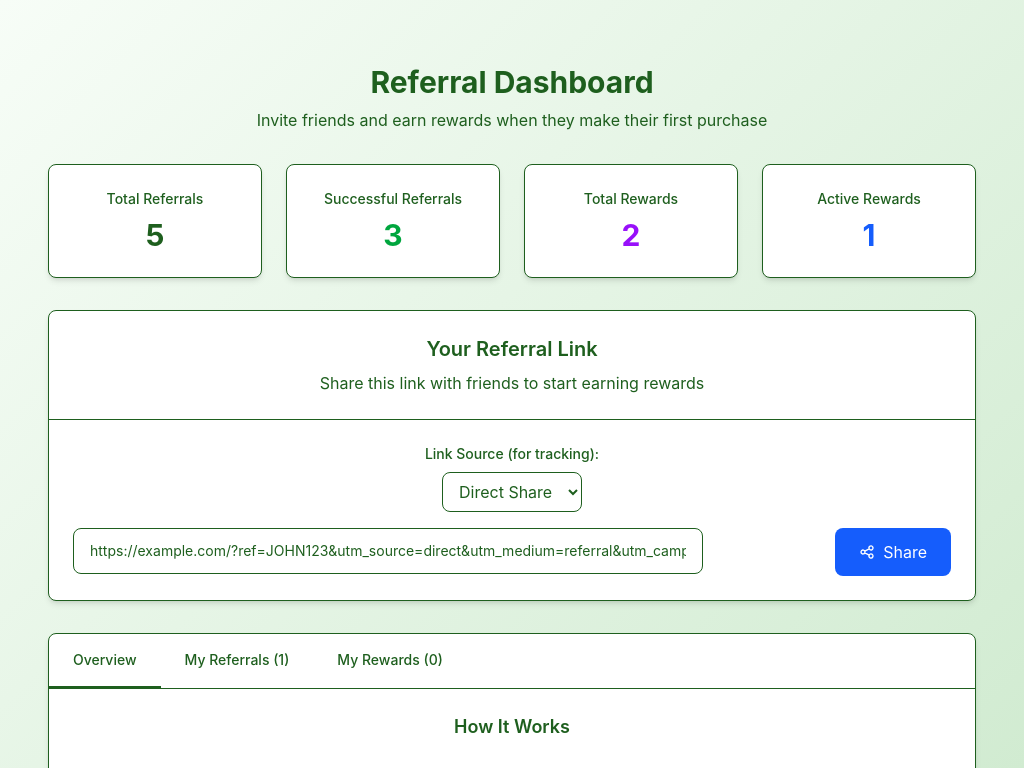
Scenario: CustomerReferralDashboardPage › Rewards Tab › should show empty state when no rewards
Click the button "My Rewards (0)" at coordinates (390, 661), box [313,634,467,688]
(page scrolled)
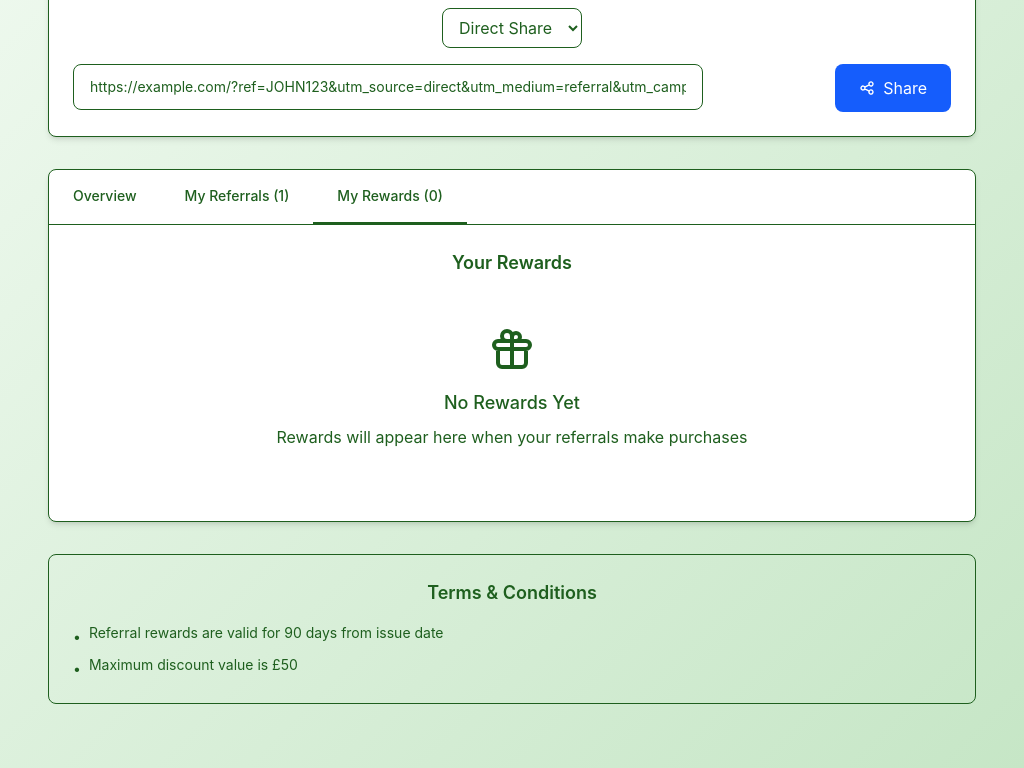
Now the heading "No Rewards Yet" is shown, box [444,392,580,413]
Now the text "Rewards will appear here when your referrals make purchases" is shown, box [276,427,748,447]
